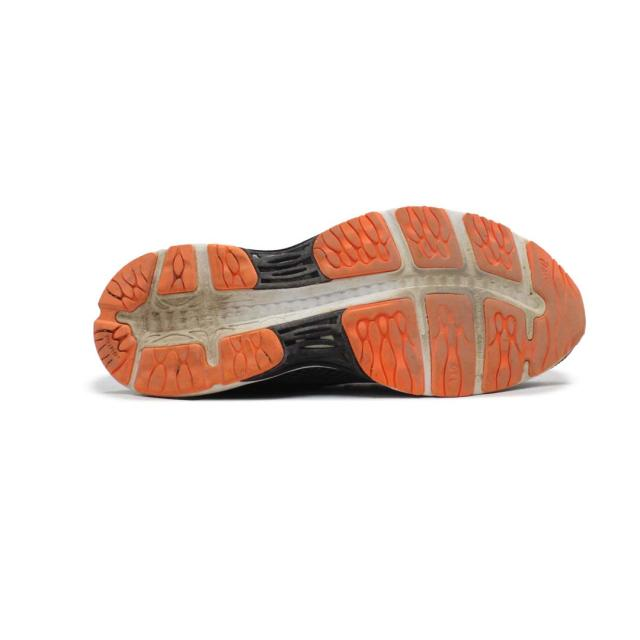outersole: (97, 205, 586, 398)
